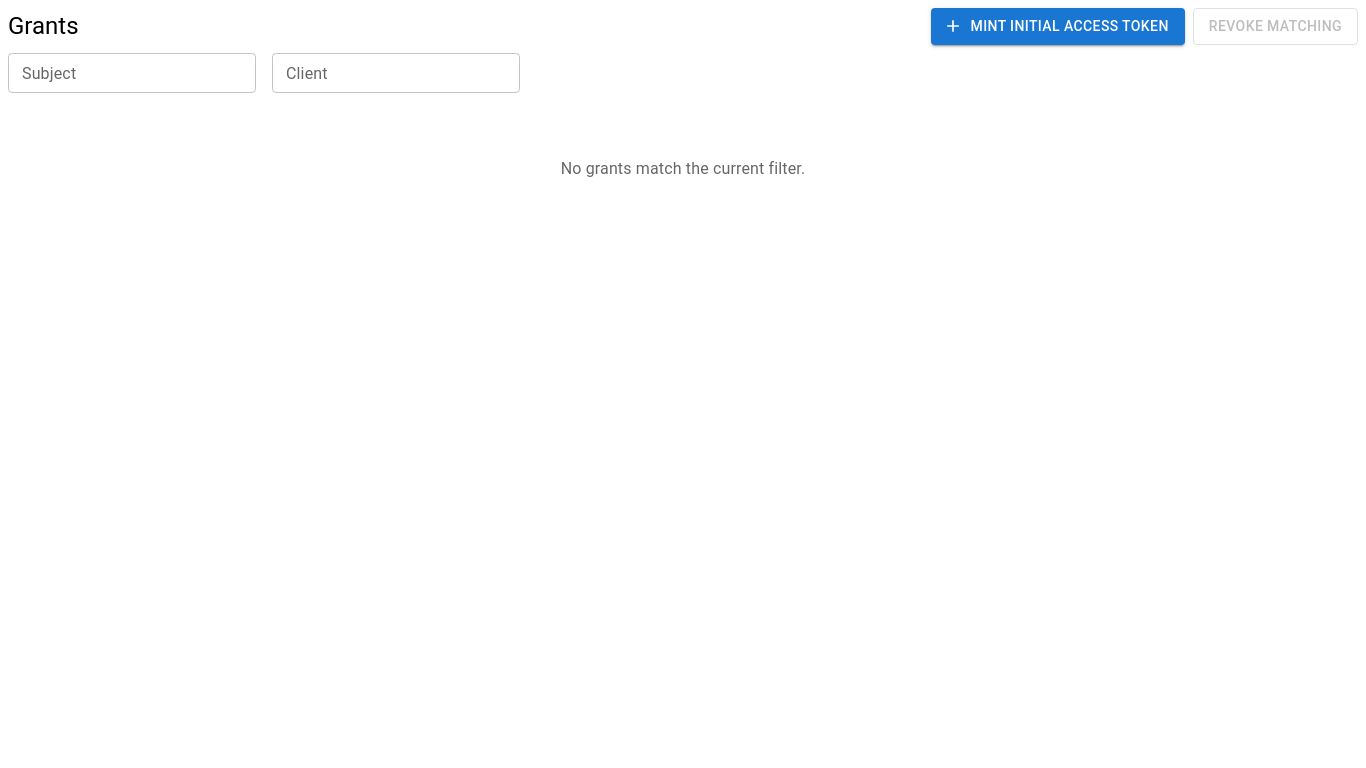
GrantsPage (initial access tokens) › mints an expiring token without a description and closes the reveal
Expected: the element with test id "data-empty" is shown, 561,158 -> 805,178
Click the button with test id "mint-initial-access-token" at {"x": 1058, "y": 26}, box 931,8 -> 1185,44
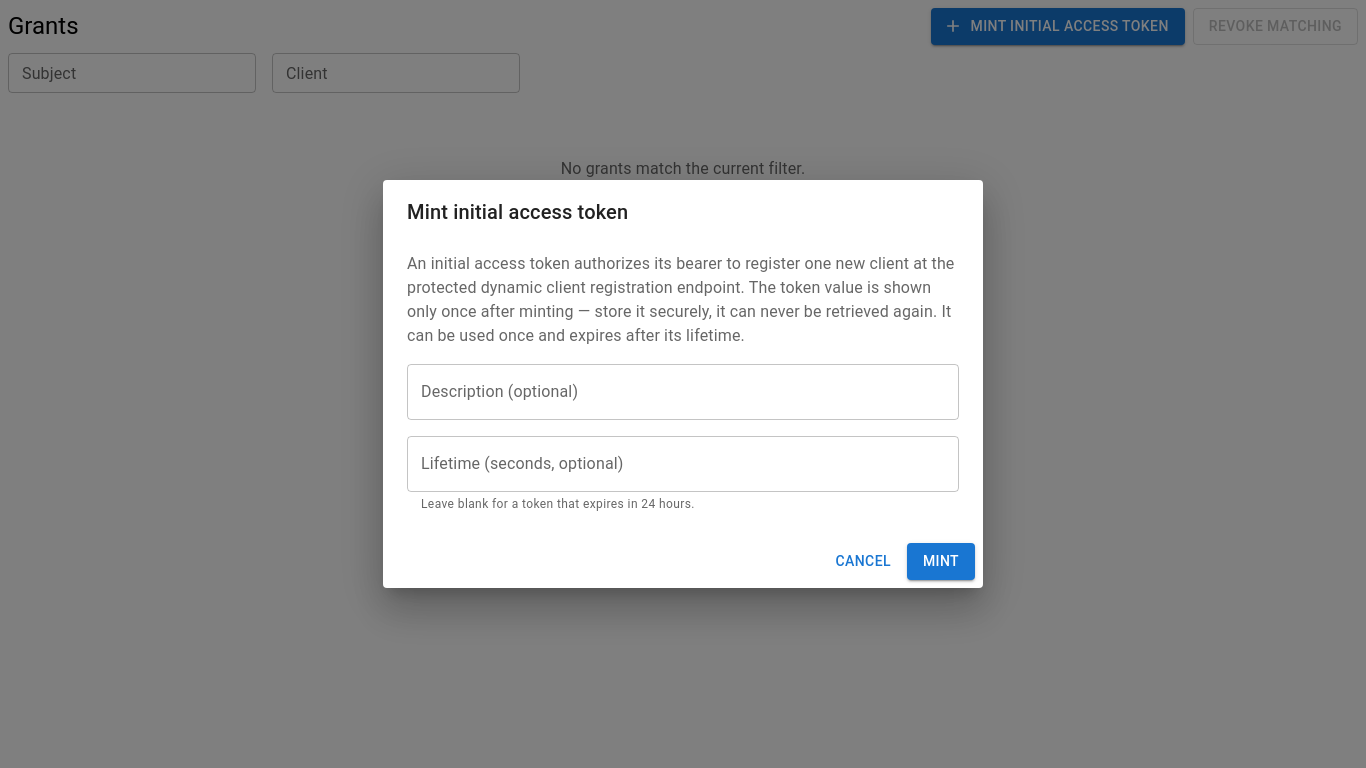
Type "3600" into the number field with test id "iat-lifetime" at {"x": 683, "y": 464}, box 407,436 -> 959,492
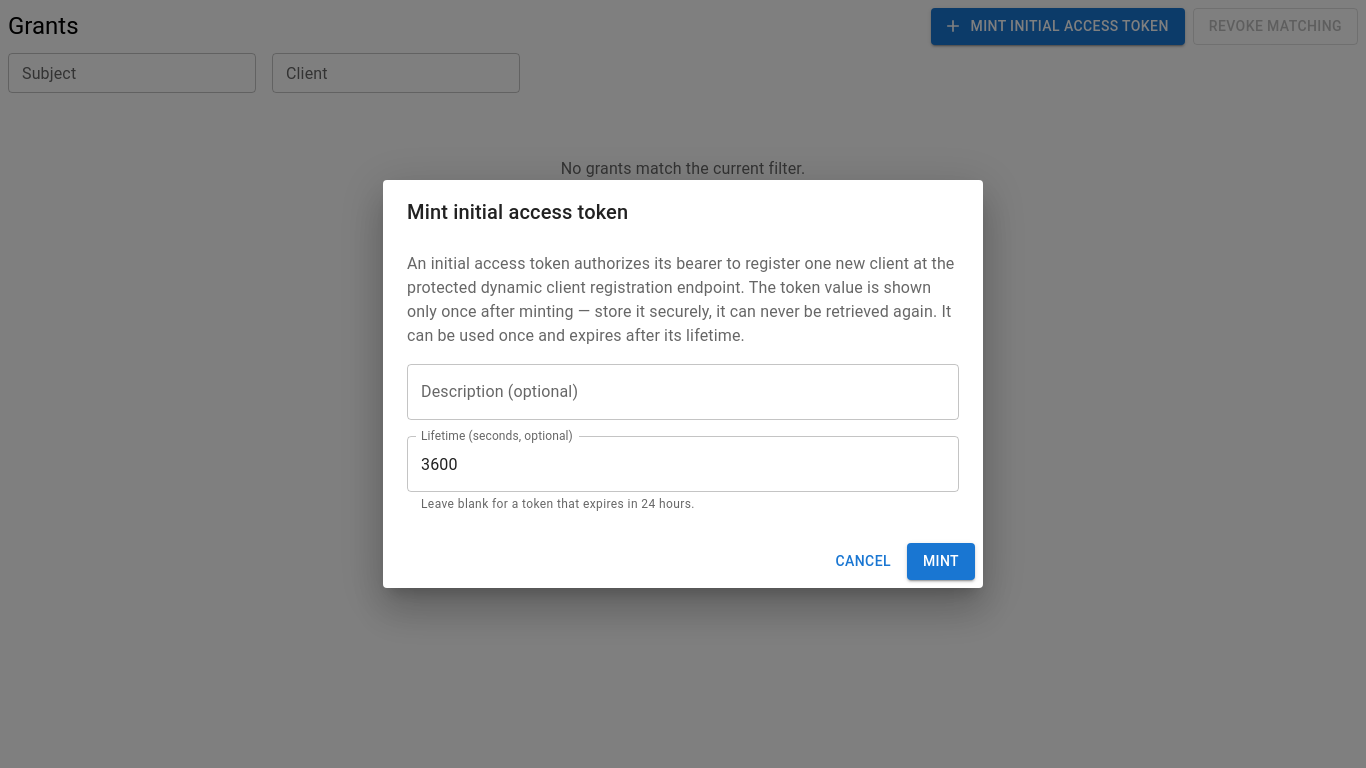
Click the button with test id "iat-form-submit" at {"x": 941, "y": 561}, box 907,543 -> 975,580
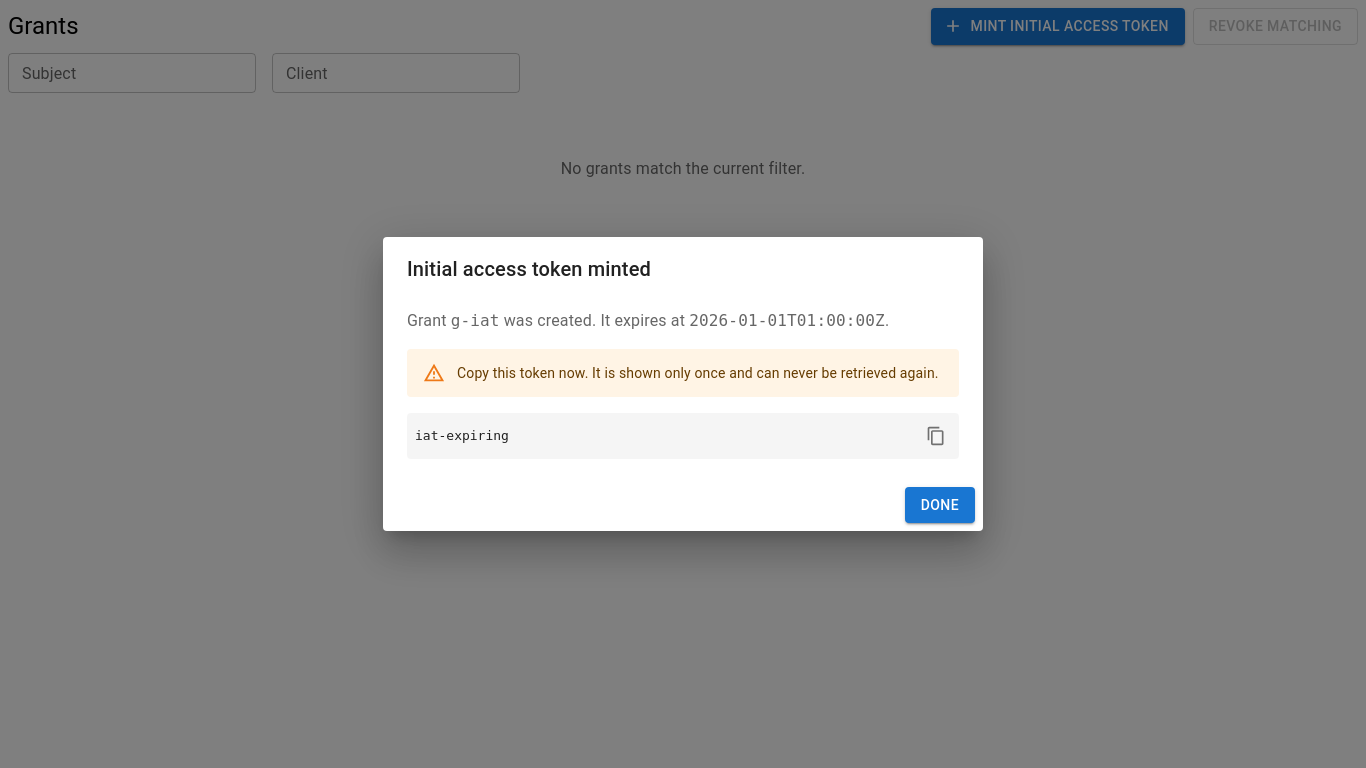
Expected: the text with test id "reveal-iat-expires" reads "2026-01-01T01:00:00Z", 689,311 -> 885,330
Expected: the text with test id "reveal-iat-grant-id" reads "g-iat", 451,311 -> 500,330
Click the button with test id "reveal-iat-done" at {"x": 940, "y": 505}, box 905,487 -> 975,523
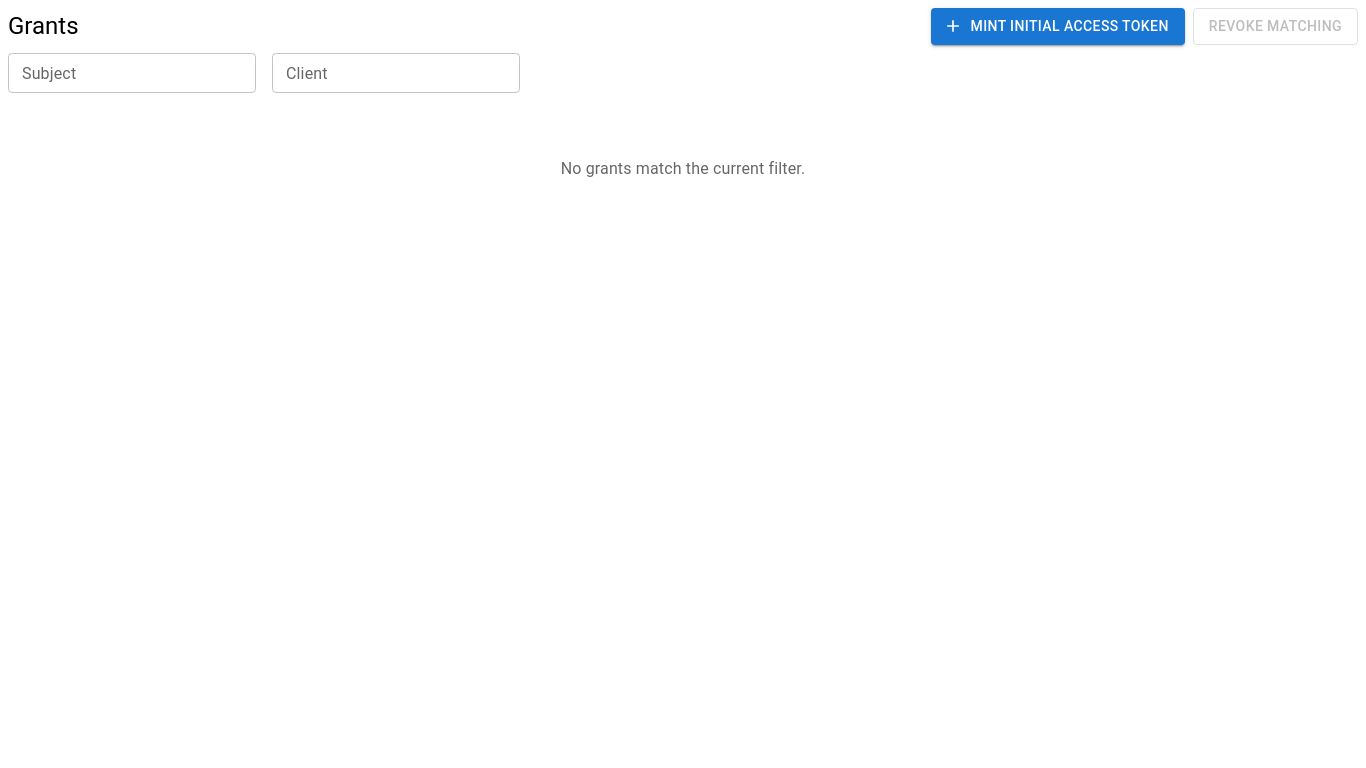
Expected: the text with test id "reveal-iat-token" is gone
